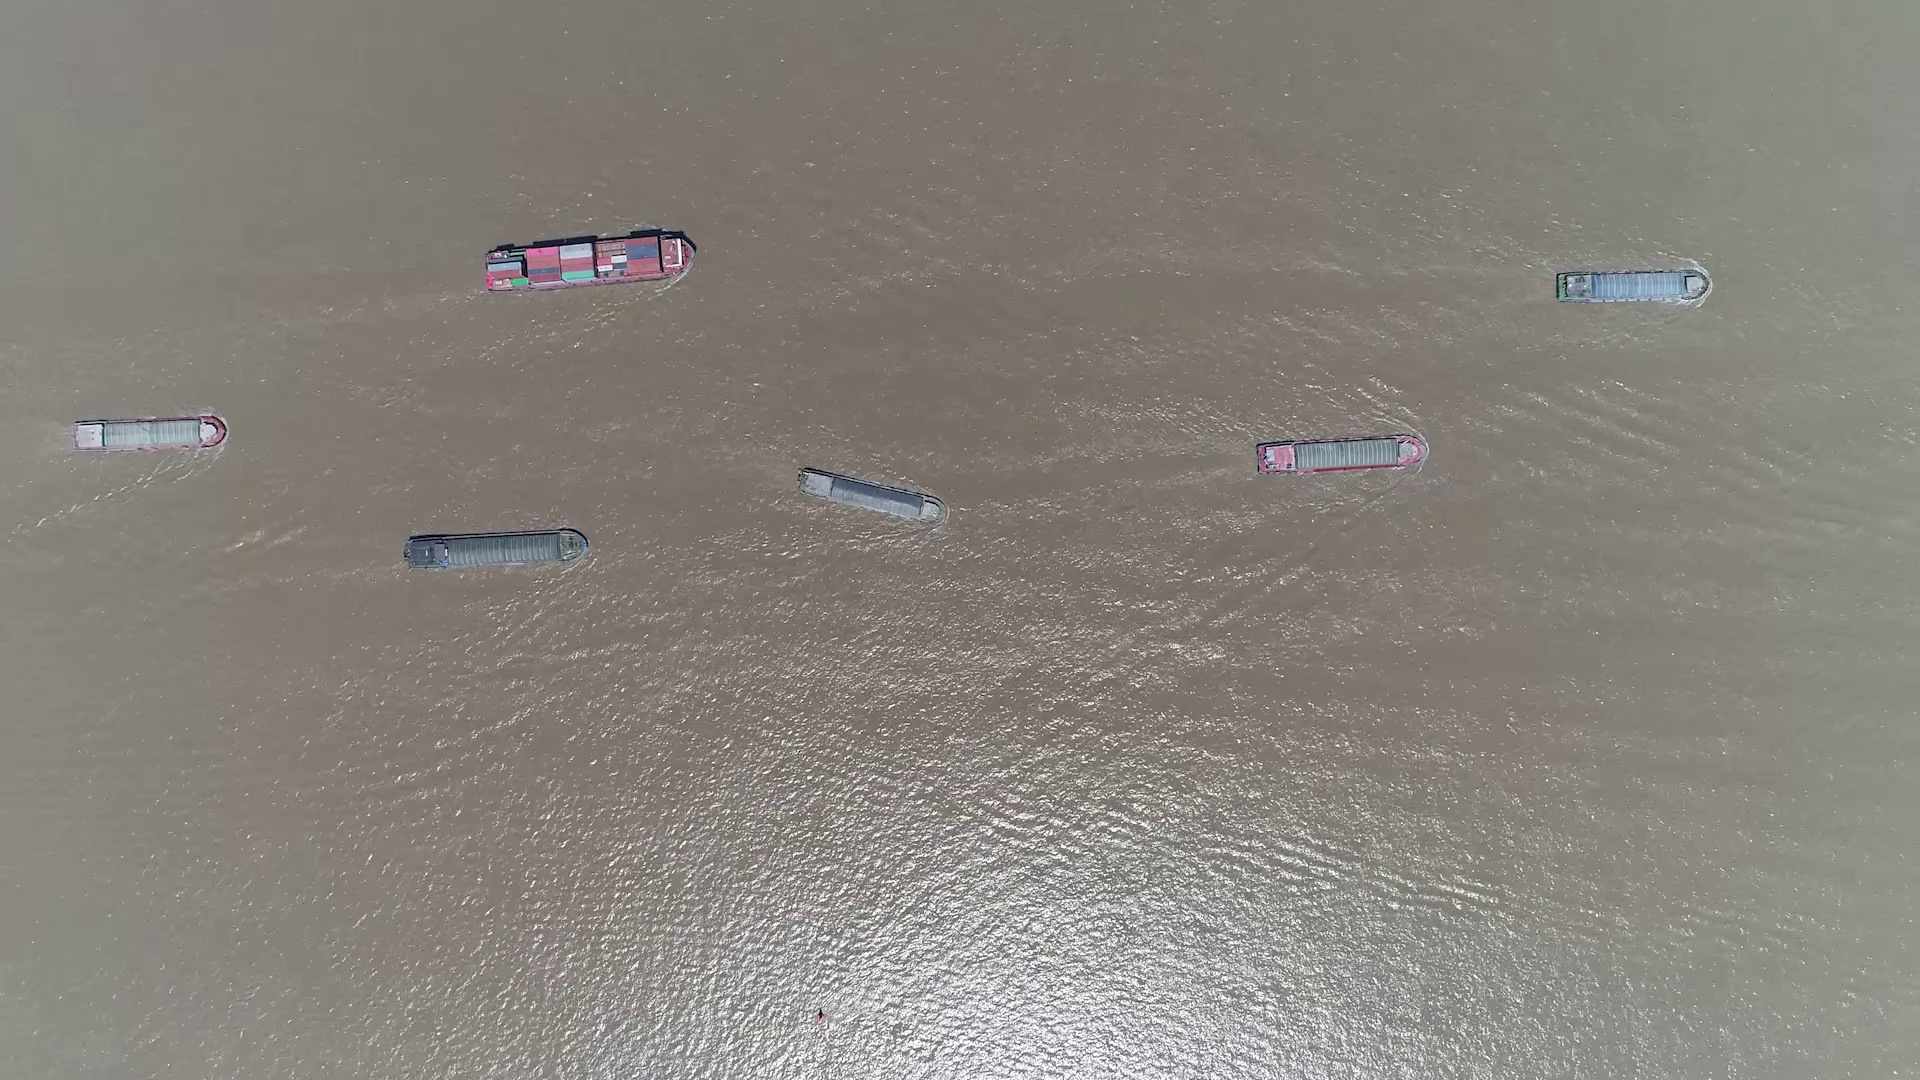ship: (484, 233, 694, 291), (795, 465, 942, 524), (404, 527, 587, 570), (1255, 435, 1427, 473), (69, 418, 225, 452), (1557, 270, 1706, 303)
